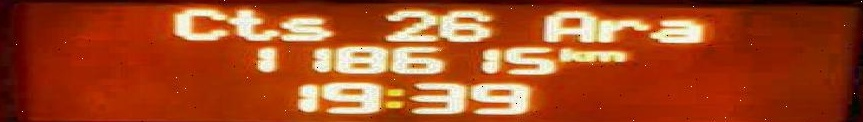1: (291, 80, 317, 113), (253, 44, 276, 74), (307, 45, 331, 73), (473, 45, 496, 74)
2: (381, 7, 440, 42)
3: (409, 80, 463, 115)
5: (502, 44, 554, 75)
6: (440, 8, 492, 42), (390, 44, 445, 74)
8: (336, 43, 385, 73)
9: (319, 80, 378, 114), (471, 81, 530, 114)
X: (165, 6, 229, 40), (225, 7, 277, 41), (539, 9, 594, 41), (279, 14, 331, 41), (596, 17, 648, 41), (655, 16, 702, 42), (584, 47, 624, 62), (383, 86, 404, 110), (556, 47, 584, 62)
